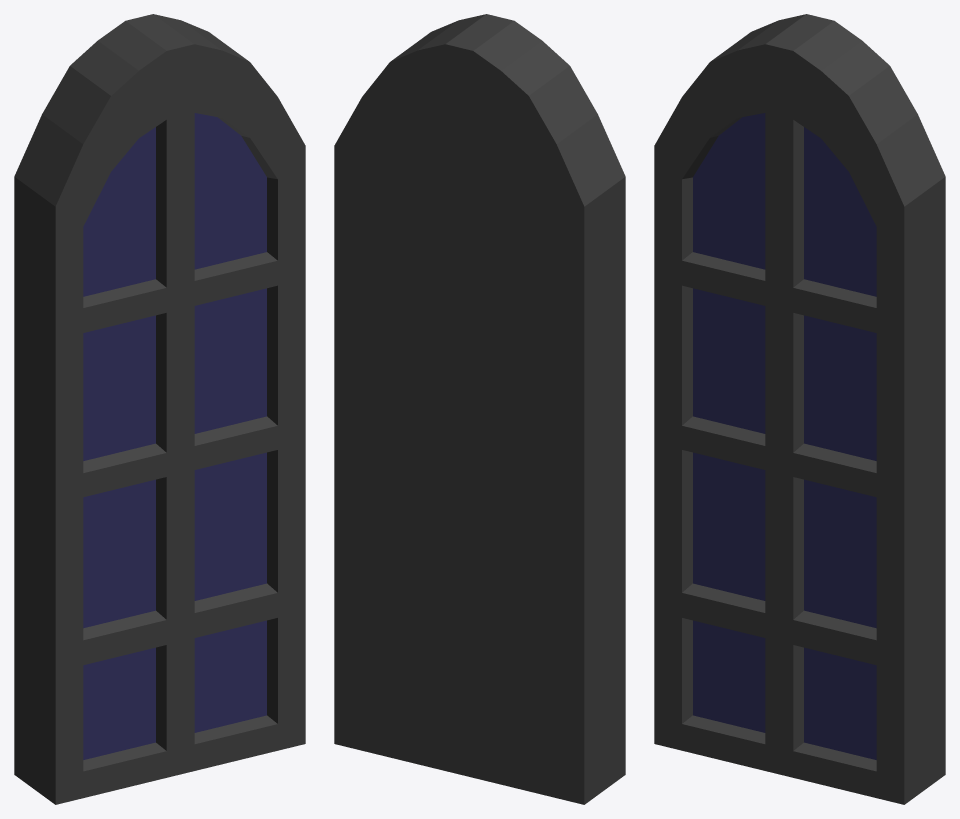
Rendered from window.fbx.
3 renders of one model, left to right at view 1: azimuth 30°, elevation 25°; view 2: azimuth 150°, elevation 25°; view 3: azimuth 330°, elevation 25°, orthographic.
Parts seen in each view (by area): view 1: window; view 2: window; view 3: window.
Part boxes in pixels (x1,y1,x2,y2): window: (14,14,305,804); window: (334,14,625,804); window: (654,14,945,804).
Bounding box in the file's own units: 2.8 × 0.8 × 7.78.
